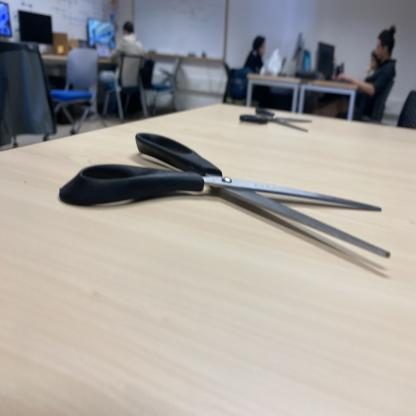scissors: (58, 130, 392, 259), (236, 102, 314, 136)
